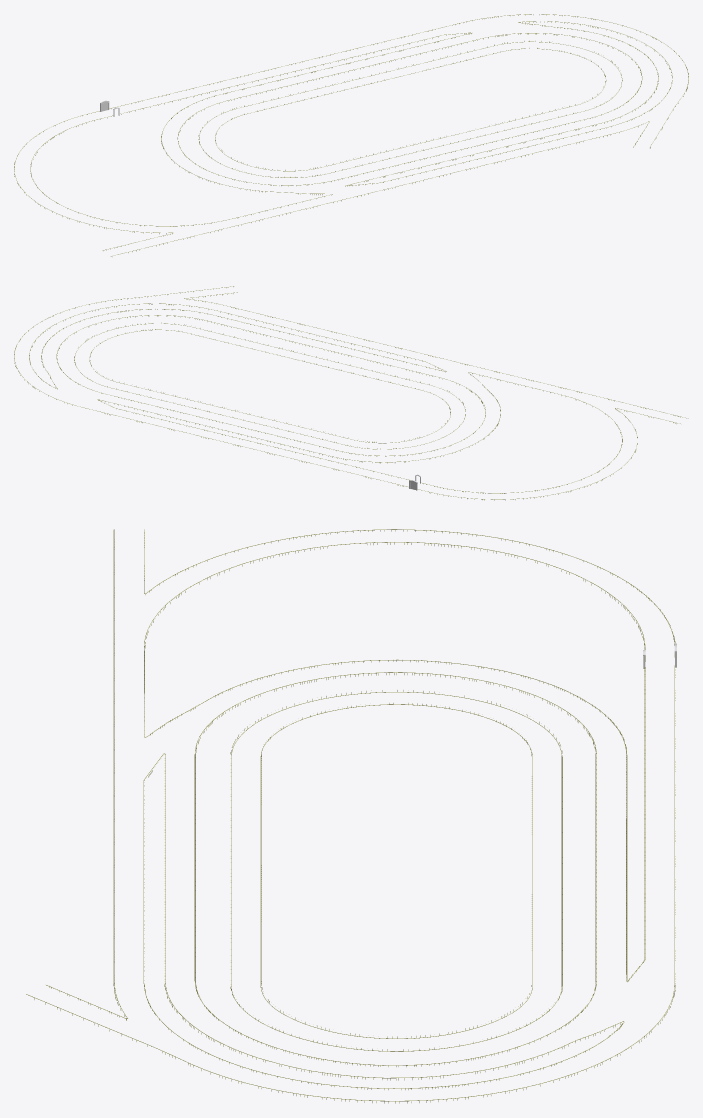
Rendered from fence.fbx.
3 renders of one model, top to bottom at view 1: azimuth 30°, elevation 25°; view 2: azimuth 150°, elevation 25°; view 3: azimuth 270°, elevation 25°, orthographic. The views are drawn at different scales.
Parts seen in each view (by area): view 1: Object261; view 2: Object261; view 3: Object261.
Part boxes in pixels (x1,y1,x2,y2): Object261: (14,14,688,256); Object261: (14,286,688,500); Object261: (26,529,675,1103).
Size of the model in its own units: 86733 by 1270 by 41719.
